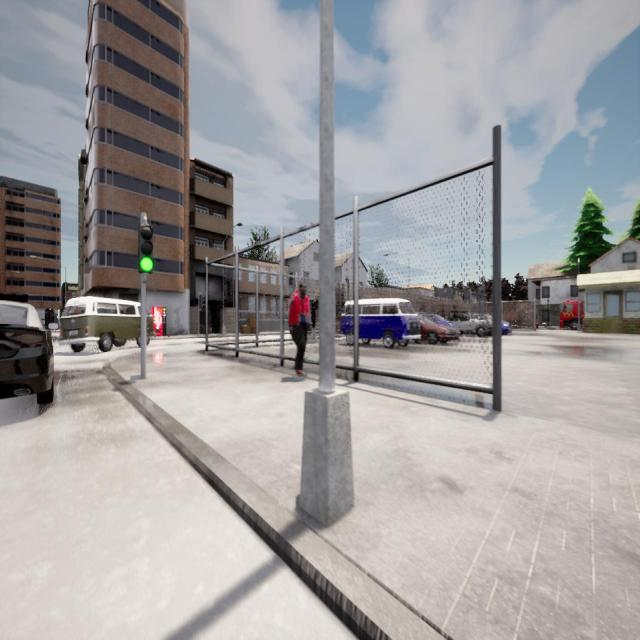Pedestrian: (289, 282, 311, 375)
Vehicle: (0, 301, 53, 404), (61, 297, 152, 352), (342, 299, 421, 348), (419, 313, 456, 344), (446, 312, 492, 336), (559, 301, 585, 331), (502, 321, 511, 335)
traffic_light: (139, 225, 153, 273), (200, 294, 205, 310)
